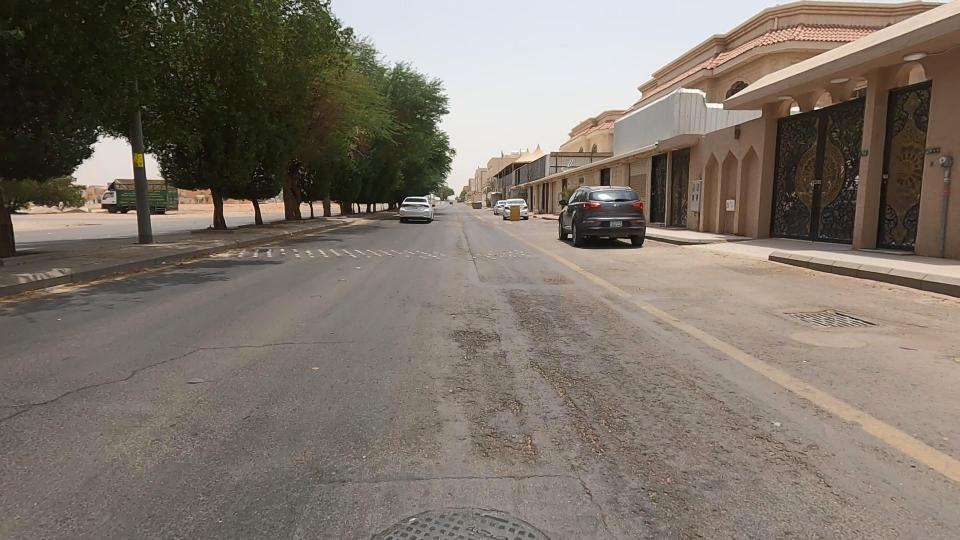POTHOLES: (390, 318, 599, 532), (480, 285, 666, 519), (385, 284, 565, 405)
